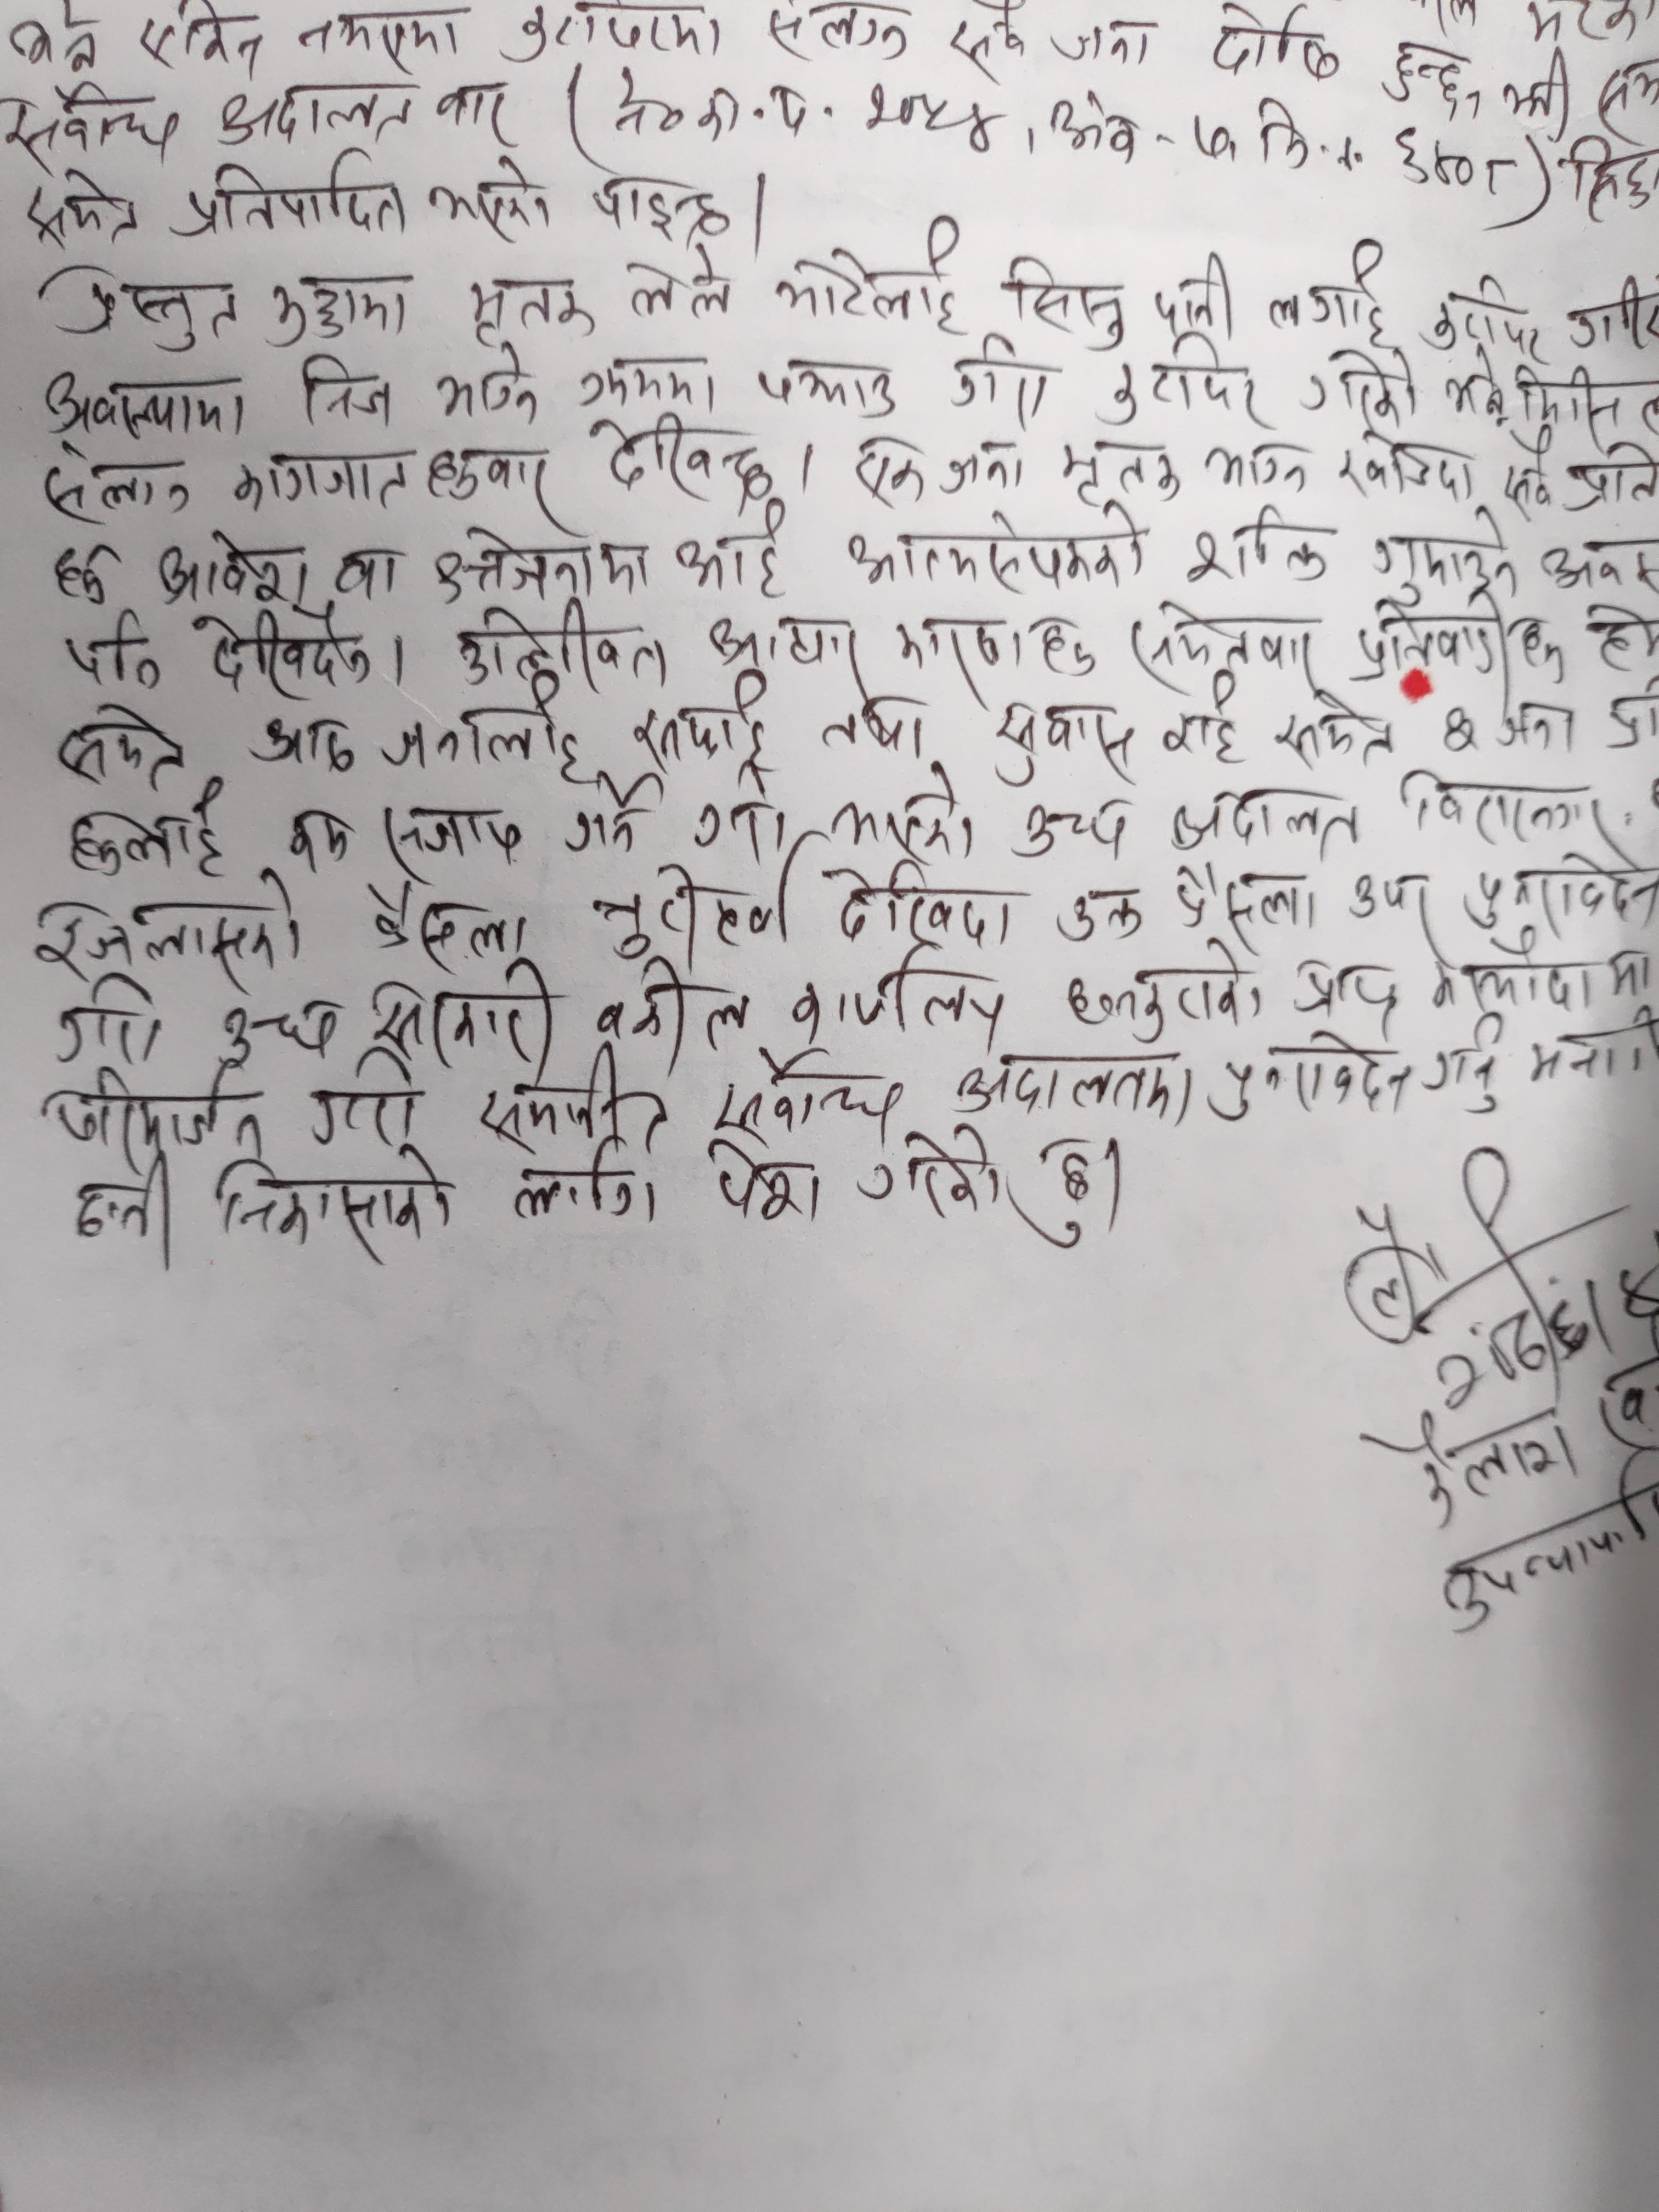text: (843, 503, 1162, 599), (24, 878, 310, 975), (211, 1153, 453, 1264), (772, 211, 972, 340), (176, 146, 408, 244), (378, 681, 584, 787), (1351, 585, 1570, 685), (443, 601, 671, 690), (425, 517, 657, 604), (1427, 927, 1659, 1014), (1063, 941, 1269, 1038), (33, 1068, 263, 1155), (1202, 1029, 1415, 1123), (44, 256, 246, 354), (366, 963, 563, 1061), (186, 601, 376, 702), (955, 1045, 1199, 1123), (784, 958, 1012, 1042), (587, 406, 774, 505), (603, 63, 842, 139), (894, 603, 1103, 688), (1392, 768, 1624, 845), (709, 1054, 908, 1143), (211, 64, 416, 150), (63, 784, 237, 883), (1164, 773, 1363, 860), (37, 361, 251, 441), (1124, 597, 1324, 683), (2, 78, 185, 171), (830, 860, 1018, 949), (1105, 333, 1272, 430), (592, 873, 795, 953), (153, 517, 315, 613), (591, 958, 755, 1052), (985, 690, 1141, 786), (831, 765, 981, 862), (504, 1139, 664, 1230), (999, 246, 1134, 352), (1363, 517, 1527, 604), (505, 0, 725, 64), (1180, 502, 1335, 592), (859, 1129, 1006, 1224), (627, 678, 779, 770), (1269, 237, 1394, 348), (1464, 852, 1659, 923), (476, 1054, 622, 1148), (361, 881, 532, 961), (261, 265, 413, 354), (376, 786, 530, 873), (228, 442, 413, 514), (33, 444, 197, 524), (47, 700, 188, 792), (64, 1151, 179, 1263), (1166, 859, 1321, 939), (697, 599, 870, 671), (1293, 343, 1427, 432), (425, 441, 575, 519), (427, 150, 554, 242), (49, 970, 167, 1068), (1199, 2, 1340, 84), (1272, 686, 1399, 772), (708, 1143, 831, 1230), (673, 510, 791, 601), (857, 80, 999, 155), (132, 2, 270, 78), (303, 1054, 422, 1143), (295, 5, 474, 63), (622, 237, 737, 326), (586, 171, 739, 237), (1424, 273, 1547, 355), (23, 171, 148, 251), (1513, 359, 1638, 439), (751, 352, 903, 418), (1053, 432, 1185, 507), (1333, 432, 1478, 500), (430, 345, 542, 432), (457, 275, 592, 347), (1389, 122, 1513, 200), (687, 770, 795, 859), (1382, 37, 1492, 122), (1011, 794, 1138, 866), (568, 354, 721, 413), (1422, 1012, 1506, 1120), (1152, 671, 1248, 765), (1044, 85, 1147, 172), (59, 610, 162, 697), (816, 683, 927, 761), (207, 998, 338, 1064), (1297, 953, 1408, 1029), (765, 3, 913, 61), (1560, 138, 1654, 221), (558, 780, 655, 860), (943, 0, 1032, 87), (246, 709, 361, 775), (3, 3, 106, 73), (296, 352, 399, 421), (932, 428, 1030, 502), (1032, 1141, 1093, 1258), (1521, 1019, 1626, 1087), (1152, 247, 1236, 331), (1199, 439, 1310, 502), (847, 428, 927, 514), (432, 75, 523, 150), (1345, 869, 1438, 942), (951, 354, 1053, 420), (1495, 434, 1563, 526), (1049, 881, 1152, 942), (1579, 599, 1659, 676), (1049, 17, 1162, 71), (1492, 685, 1577, 756), (1248, 94, 1323, 172), (277, 799, 357, 869), (1436, 352, 1513, 423), (49, 540, 125, 610), (328, 542, 410, 604), (1180, 111, 1236, 162), (1436, 704, 1481, 759)
